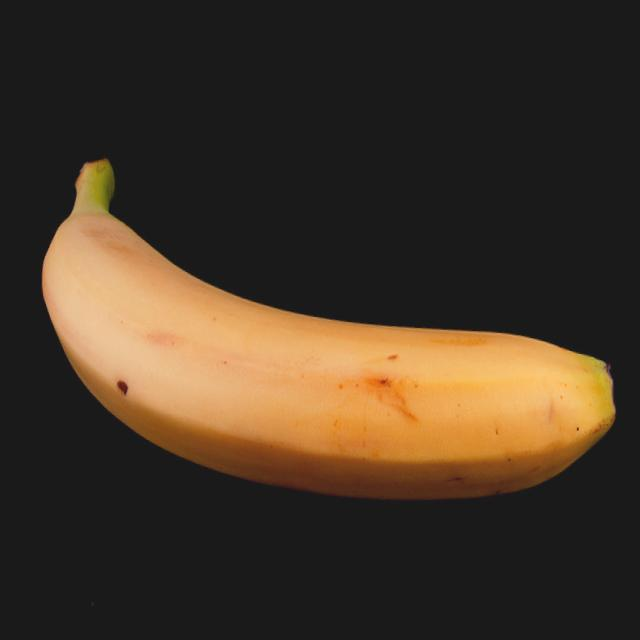Fresh_Banana: (31, 247, 640, 526)
